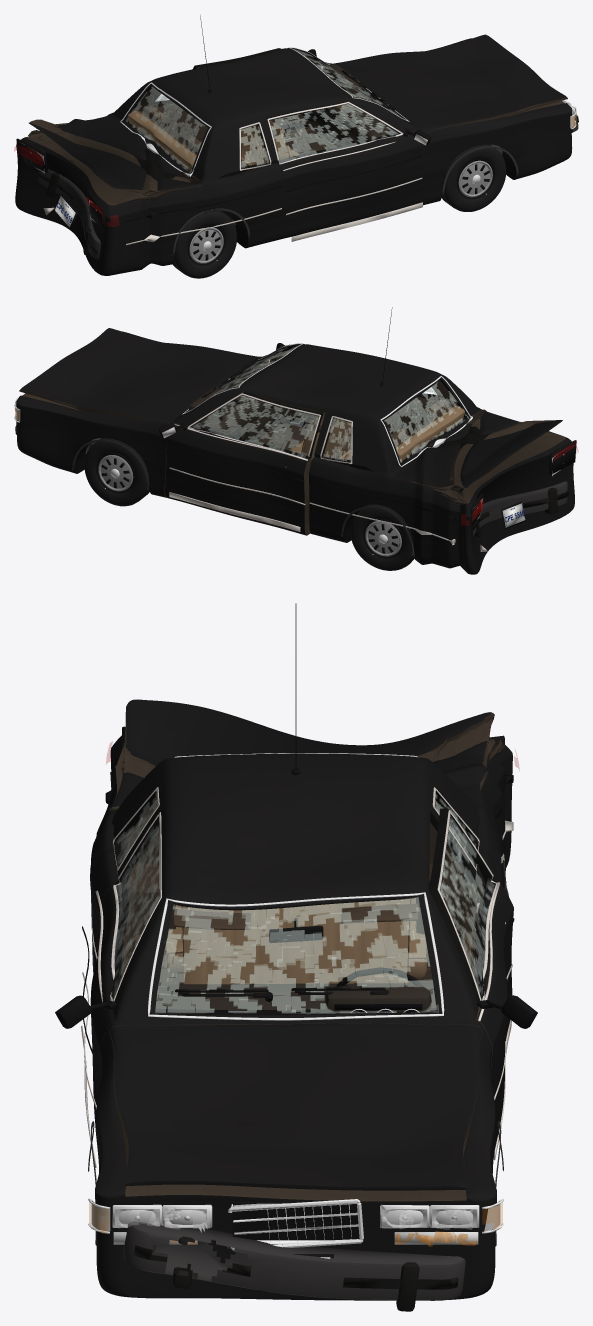
File: coupe84_rear_d1_lod1.glb
3 renders of one model, top to bottom at view 1: azimuth 30°, elevation 25°; view 2: azimuth 150°, elevation 25°; view 3: azimuth 270°, elevation 25°, orthographic. The views are drawn at different scales.
Parts seen in each view (by area): view 1: Body, Hood, Door_FR, Trunk, Interior, Glass, Glass_FR, Wheel_RR_mesh, Wheel_FR_mesh, Trim_FR, Trim, Bumper_R (+3 smaller); view 2: Body, Hood, Door_FL, Trunk, Interior, Glass, Wheel_FL_mesh, Wheel_RL_mesh, Glass_FL, Trim_FL, Bumper_R, Trim (+2 smaller); view 3: Body, Hood, Interior, Glass, Bumper_F, Trunk, Ends, Door_FL, Door_FR, Glass_FL, Trim, Trim_FL (+4 smaller).
Part boxes in pixels (x1,y1,x2,y2): Body: (15, 38, 572, 275); Hood: (333, 34, 567, 132); Door_FR: (266, 101, 426, 238); Trunk: (29, 115, 200, 196); Interior: (127, 64, 395, 170); Glass: (120, 47, 409, 176); Glass_FR: (267, 102, 399, 164); Wheel_RR_mesh: (172, 211, 237, 278); Wheel_FR_mesh: (441, 144, 506, 211); Trim_FR: (267, 102, 431, 241); Trim: (126, 15, 518, 255); Bumper_R: (37, 169, 100, 259); Body: (16, 331, 574, 574); Hood: (19, 328, 259, 425); Door_FL: (165, 391, 323, 535); Trunk: (391, 410, 562, 492); Interior: (189, 365, 464, 461); Glass: (182, 343, 472, 466); Wheel_FL_mesh: (84, 438, 149, 506); Wheel_RL_mesh: (350, 504, 414, 570); Glass_FL: (191, 393, 321, 461); Trim_FL: (159, 393, 320, 531); Bumper_R: (472, 481, 568, 536); Trim: (72, 307, 455, 556); Body: (90, 733, 512, 1300); Hood: (110, 1023, 482, 1190); Interior: (155, 898, 436, 1012); Glass: (116, 753, 475, 1020); Bumper_F: (122, 1221, 465, 1311); Trunk: (112, 699, 494, 808); Ends: (88, 726, 504, 1291); Door_FL: (428, 808, 513, 1159); Door_FR: (90, 810, 163, 1154); Glass_FL: (436, 817, 497, 994); Trim: (88, 603, 513, 1246); Trim_FL: (437, 810, 537, 1160).
Size of the model in its own units: 4.95 by 2.15 by 2.13.
34 materials, 5 textured.
